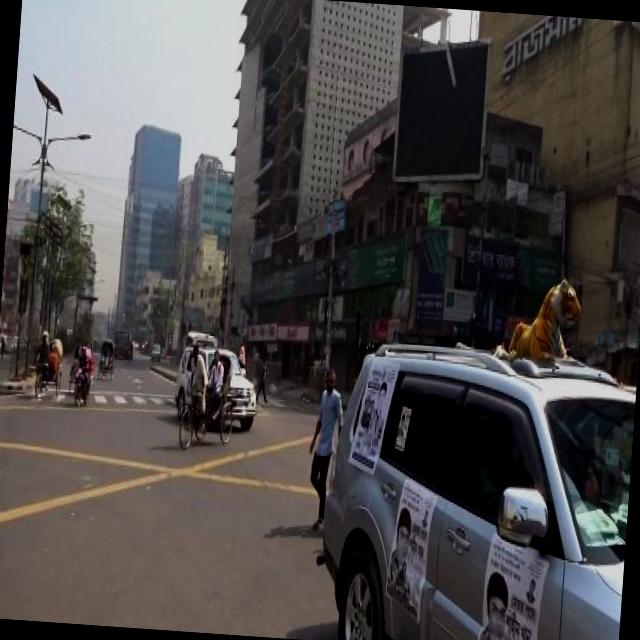bus: (184, 326, 220, 350), (112, 327, 129, 354)
car: (307, 324, 636, 640)
motorcycle: (176, 341, 236, 452), (30, 326, 66, 398), (70, 346, 98, 407), (66, 335, 94, 391), (96, 335, 115, 380)
truck: (170, 340, 261, 430), (149, 342, 160, 359)
